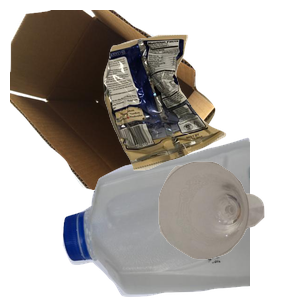cardboard: (10, 10, 218, 190)
glass: (156, 159, 300, 300)
plastic: (60, 135, 300, 300)
trash: (101, 32, 300, 195)
